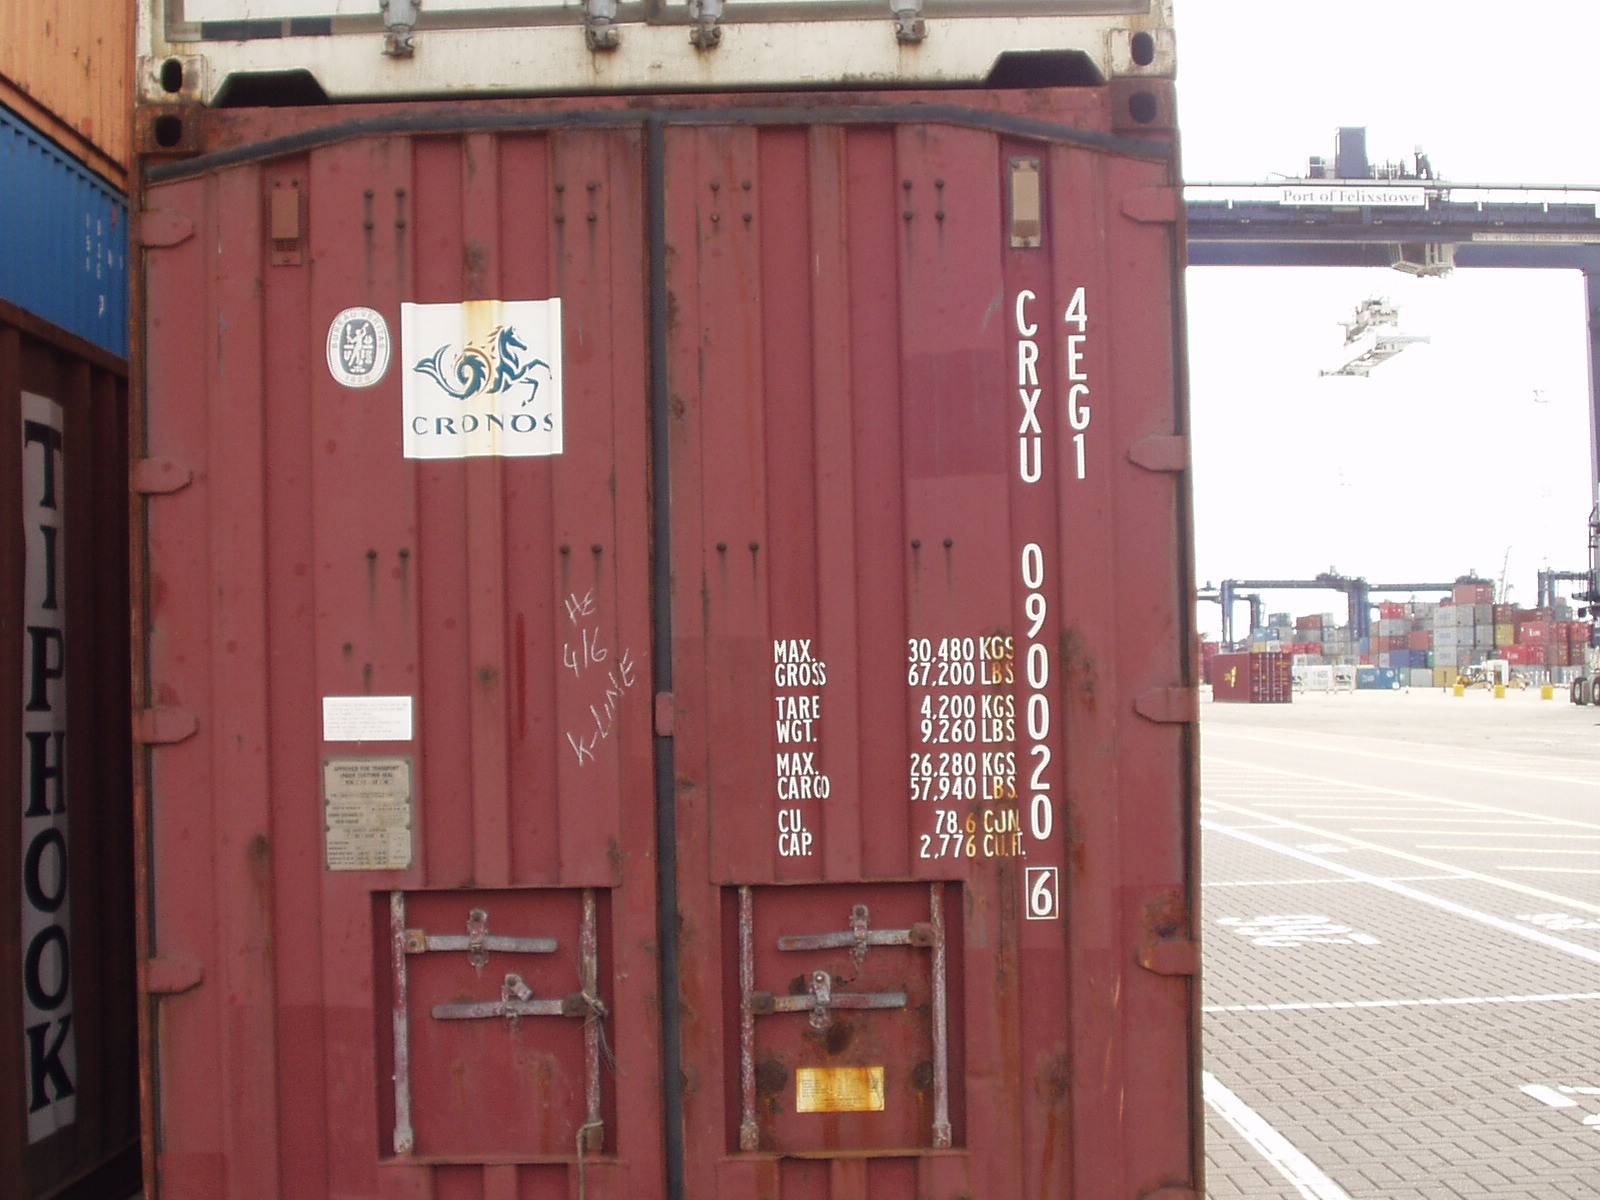container_door: (134, 103, 1208, 1200)
